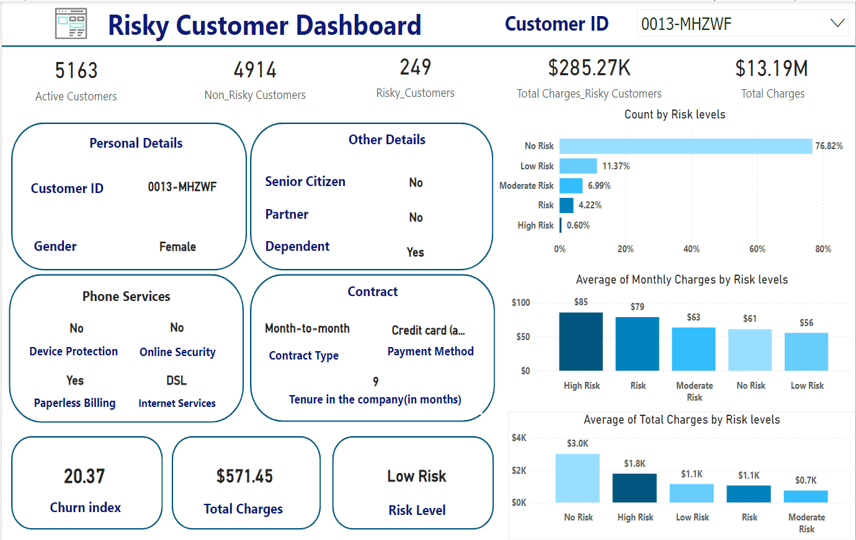

What the dashboard file says about the page in this screenshot:
{"tool":"powerbi","page":{"name":"Risky Customers Dashboard","canvas":[1280,720],"ordinal":4},"visuals":[{"type":"textbox","box":[142.5,0,577.5,63.8],"z":0},{"type":"card","fields":{"Values":["CountNonNull(Sheet1 (2).customerID)"]},"box":[0,61.3,222.8,80],"z":0,"group":"g5"},{"type":"textbox","box":[425.3,514.5,294.8,37.9],"z":0,"group":"g4"},{"type":"card","fields":{"Values":["Sum(Sheet1 (2).TotalCharges)"]},"box":[1029.2,58.4,250.8,78.7],"z":1000,"group":"g5"},{"type":"shape","box":[372.2,364.5,367.5,197.5],"z":1000},{"type":"card","fields":{"Values":["Sheet1 (2).Non_Risky Customers"]},"box":[265.3,58.7,229.2,82.5],"z":2000,"group":"g5"},{"type":"shape","box":[14.5,580.3,227.5,125],"z":2000},{"type":"shape","box":[0,45,1280,28.8],"z":3000},{"type":"card","fields":{"Values":["Sheet1 (2).Risky_Customers"]},"box":[494.5,57.5,252.4,78.8],"z":3000,"group":"g5"},{"type":"card","fields":{"Values":["Sheet1 (2).Total Charges_Risky Customers"]},"box":[746.9,57.5,269.1,80],"z":4000,"group":"g5"},{"type":"shape","box":[254.5,580.3,223.8,125],"z":4000},{"type":"actionButton","box":[70,0,66.2,57.5],"z":5000},{"type":"shape","box":[495,580,242.5,125],"z":6000},{"type":"textbox","box":[452.9,368.7,207.5,45],"z":7000,"group":"g4"},{"type":"group","id":"g1","title":"Group 1","box":[36.8,608.6,176.2,89.2],"z":7000},{"type":"textbox","box":[36.8,657.5,176.2,40.3],"z":7000,"group":"g1"},{"type":"group","id":"g2","title":"Group 3","box":[273.2,611.7,177.3,89.8],"z":8000},{"type":"group","id":"g3","title":"Group 4","box":[525.8,609.9,194.3,89.9],"z":9000},{"type":"textbox","box":[273.2,659.5,177.3,42],"z":9000,"group":"g2"},{"type":"shape","box":[13.7,162,353.7,197.6],"z":10000},{"type":"shape","box":[10.7,364,352.5,198.8],"z":11000},{"type":"card","fields":{"Values":["Sum(Sheet1 (2).ChurnIndex)"]},"box":[64.5,608.6,117.5,48.8],"z":11000,"group":"g1"},{"type":"textbox","box":[80.9,170.9,238.9,39.5],"z":12000},{"type":"shape","box":[372.7,162,365.1,197.6],"z":13000},{"type":"textbox","box":[565.8,450.2,153.6,41.7],"z":13000,"group":"g4"},{"type":"textbox","box":[525.8,661.3,194.3,38.6],"z":13000,"group":"g3"},{"type":"textbox","box":[38.7,231,171.1,38.6],"z":14000},{"type":"textbox","box":[395.3,456.4,162.4,36.6],"z":14000,"group":"g4"},{"type":"textbox","box":[42.8,308.7,90.2,38.3],"z":15000},{"type":"card","fields":{"Values":["Sum(Sheet1 (2).TotalCharges)"]},"box":[314.3,611.7,101.2,42.5],"z":15000,"group":"g2"},{"type":"card","fields":{"Values":["Min(Sheet1 (2).gender)"]},"box":[194,306.2,139.8,43.4],"z":16000},{"type":"card","fields":{"Values":["Min(Sheet1 (2).customerID)"]},"box":[195.3,222,151.2,52.3],"z":17000},{"type":"card","fields":{"Values":["Min(Sheet1 (2).Risk Levels)"]},"box":[561,609.9,123.8,47.5],"z":17000,"group":"g3"},{"type":"textbox","box":[458.4,166.5,238.6,39.8],"z":18000},{"type":"textbox","box":[88,375.3,196.2,45.9],"z":19000},{"type":"textbox","box":[389.7,222,190.6,38.3],"z":20000},{"type":"card","fields":{"Values":["Min(Sheet1 (2).Contract)"]},"box":[388.4,422.4,139.9,29.1],"z":20000,"group":"g4"},{"type":"textbox","box":[389.7,265.3,157.6,38.3],"z":21000},{"type":"card","fields":{"Values":["Sum(Sheet1 (2).tenure)"]},"box":[502.5,494.1,117,28.4],"z":21000,"group":"g4"},{"type":"textbox","box":[389.7,308.7,157.6,38.3],"z":22000},{"type":"card","fields":{"Values":["Min(Sheet1 (2).PaymentMethod)"]},"box":[577,421.1,126.2,37.9],"z":22000,"group":"g4"},{"type":"textbox","box":[722.5,6.2,220,51.2],"z":23000},{"type":"card","fields":{"Values":["Min(Sheet1 (2).SeniorCitizen)"]},"box":[575.2,222,91.5,39.5],"z":24000},{"type":"card","fields":{"Values":["Min(Sheet1 (2).Partner)"]},"box":[575.2,269.2,91.5,39.5],"z":25000},{"type":"card","fields":{"Values":["Min(Sheet1 (2).Dependents)"]},"box":[577.7,320.2,85.1,30.6],"z":26000},{"type":"textbox","box":[36.4,450.3,153.8,40.8],"z":27000},{"type":"textbox","box":[43.3,518.2,145.4,34.7],"z":28000},{"type":"textbox","box":[200.8,450.8,146.4,40.8],"z":29000},{"type":"textbox","box":[188.6,521.2,148.4,31.6],"z":30000},{"type":"card","fields":{"Values":["Min(Sheet1 (2).DeviceProtection)"]},"box":[86.6,422.7,50.2,29.8],"z":31000},{"type":"card","fields":{"Values":["Min(Sheet1 (2).OnlineSecurity)"]},"box":[241.8,420.8,42.2,29.8],"z":32000},{"type":"card","fields":{"Values":["Min(Sheet1 (2).PaperlessBilling)"]},"box":[55.8,491.3,108.4,29.8],"z":33000},{"type":"card","fields":{"Values":["Min(Sheet1 (2).InternetService)"]},"box":[207.6,492.3,108.4,29.8],"z":34000},{"type":"group","id":"g4","title":"Group 3","box":[388.4,368.7,331.7,183.7],"z":35000},{"type":"clusteredColumnChart","title":"Average of Total Charges by Risk levels","fields":{"Category":["Sheet1 (2).Risk Levels"],"Y":["Avg(Sheet1.TotalCharges)"]},"box":[758.8,547.5,521.2,172.5],"z":36000},{"type":"columnChart","title":"Average of Monthly Charges by Risk levels","fields":{"Category":["Sheet1 (2).Risk Levels"],"Y":["Avg(Sheet1.MonthlyCharges)"]},"box":[758.8,360,521.2,183.8],"z":37000},{"type":"clusteredBarChart","title":"Count by Risk levels","fields":{"Category":["Sheet1 (2).Risk Levels"],"Y":["CountNonNull(Sheet1.Risk Levels)"]},"box":[740,141.2,540,208.8],"z":38000},{"type":"slicer","fields":{"Values":["Sheet1 (2).customerID"]},"box":[942.5,0,337.5,57.5],"z":39000},{"type":"group","id":"g5","title":"Group 2","box":[0,57.5,1280,83.8],"z":40000}]}

Visuals, with their boxes on the page's 1280x720 design canvas (x1, y1, x2, y2). These are canvas units, not pixel positions in the 856x540 screenshot, which may show the page scaled, cropped or inside an application window:
textbox: detection(142, 0, 720, 64)
card - CountNonNull(Sheet1 (2).customerID): detection(0, 61, 223, 141)
textbox: detection(425, 514, 720, 552)
card - Sum(Sheet1 (2).TotalCharges): detection(1029, 58, 1280, 137)
shape: detection(372, 364, 740, 562)
card - Sheet1 (2).Non_Risky Customers: detection(265, 59, 494, 141)
shape: detection(14, 580, 242, 705)
shape: detection(0, 45, 1280, 74)
card - Sheet1 (2).Risky_Customers: detection(494, 58, 747, 136)
card - Sheet1 (2).Total Charges_Risky Customers: detection(747, 58, 1016, 138)
shape: detection(254, 580, 478, 705)
actionButton: detection(70, 0, 136, 58)
shape: detection(495, 580, 738, 705)
textbox: detection(453, 369, 660, 414)
"Group 1" group: detection(37, 609, 213, 698)
textbox: detection(37, 658, 213, 698)
"Group 3" group: detection(273, 612, 450, 702)
"Group 4" group: detection(526, 610, 720, 700)
textbox: detection(273, 660, 450, 702)
shape: detection(14, 162, 367, 360)
shape: detection(11, 364, 363, 563)
card - Sum(Sheet1 (2).ChurnIndex): detection(64, 609, 182, 657)
textbox: detection(81, 171, 320, 210)
shape: detection(373, 162, 738, 360)
textbox: detection(566, 450, 719, 492)
textbox: detection(526, 661, 720, 700)
textbox: detection(39, 231, 210, 270)
textbox: detection(395, 456, 558, 493)
textbox: detection(43, 309, 133, 347)
card - Sum(Sheet1 (2).TotalCharges): detection(314, 612, 416, 654)
card - Min(Sheet1 (2).gender): detection(194, 306, 334, 350)
card - Min(Sheet1 (2).customerID): detection(195, 222, 346, 274)
card - Min(Sheet1 (2).Risk Levels): detection(561, 610, 685, 657)
textbox: detection(458, 166, 697, 206)
textbox: detection(88, 375, 284, 421)
textbox: detection(390, 222, 580, 260)
card - Min(Sheet1 (2).Contract): detection(388, 422, 528, 452)
textbox: detection(390, 265, 547, 304)
card - Sum(Sheet1 (2).tenure): detection(502, 494, 620, 522)
textbox: detection(390, 309, 547, 347)
card - Min(Sheet1 (2).PaymentMethod): detection(577, 421, 703, 459)
textbox: detection(722, 6, 942, 57)
card - Min(Sheet1 (2).SeniorCitizen): detection(575, 222, 667, 262)
card - Min(Sheet1 (2).Partner): detection(575, 269, 667, 309)
card - Min(Sheet1 (2).Dependents): detection(578, 320, 663, 351)
textbox: detection(36, 450, 190, 491)
textbox: detection(43, 518, 189, 553)
textbox: detection(201, 451, 347, 492)
textbox: detection(189, 521, 337, 553)
card - Min(Sheet1 (2).DeviceProtection): detection(87, 423, 137, 452)
card - Min(Sheet1 (2).OnlineSecurity): detection(242, 421, 284, 451)
card - Min(Sheet1 (2).PaperlessBilling): detection(56, 491, 164, 521)
card - Min(Sheet1 (2).InternetService): detection(208, 492, 316, 522)
"Group 3" group: detection(388, 369, 720, 552)
"Average of Total Charges by Risk levels" clusteredColumnChart: detection(759, 548, 1280, 720)
"Average of Monthly Charges by Risk levels" columnChart: detection(759, 360, 1280, 544)
"Count by Risk levels" clusteredBarChart: detection(740, 141, 1280, 350)
slicer - Sheet1 (2).customerID: detection(942, 0, 1280, 58)
"Group 2" group: detection(0, 58, 1280, 141)
